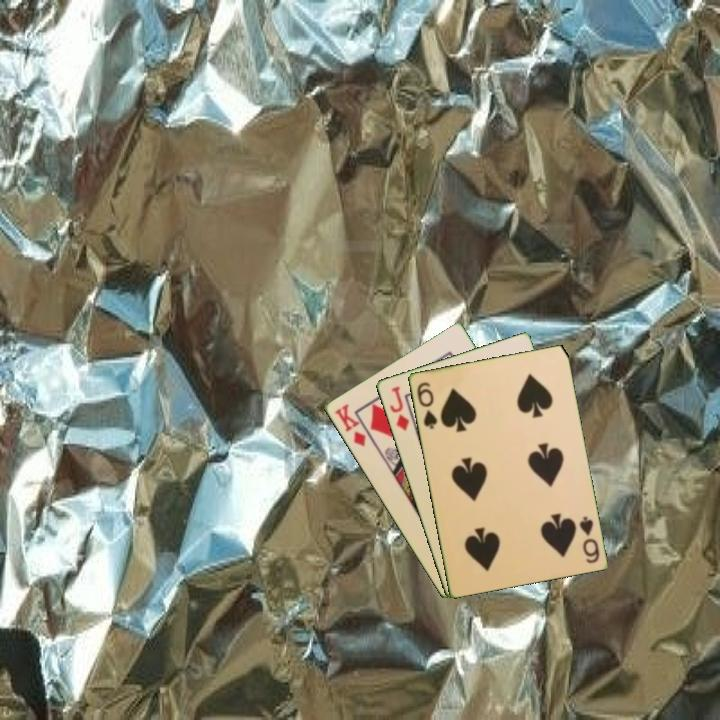6s: (413, 378, 440, 432), (575, 512, 602, 566)
Jd: (386, 382, 412, 433)
Kd: (330, 400, 368, 450)
